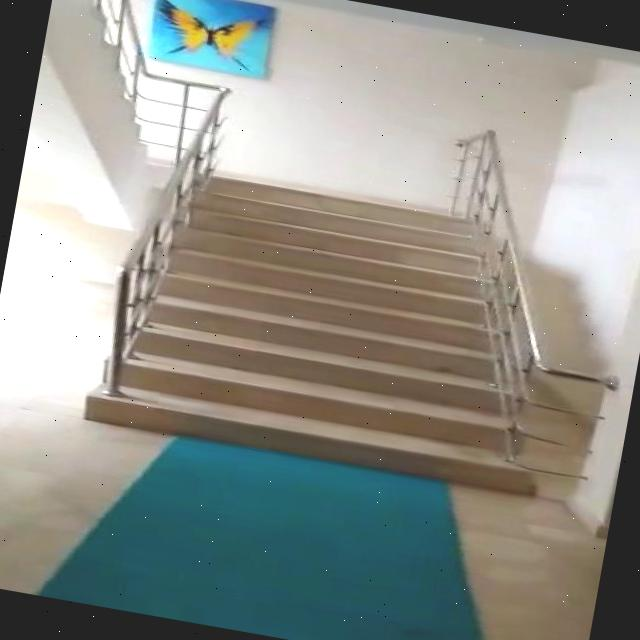stairs: (81, 156, 590, 500)
